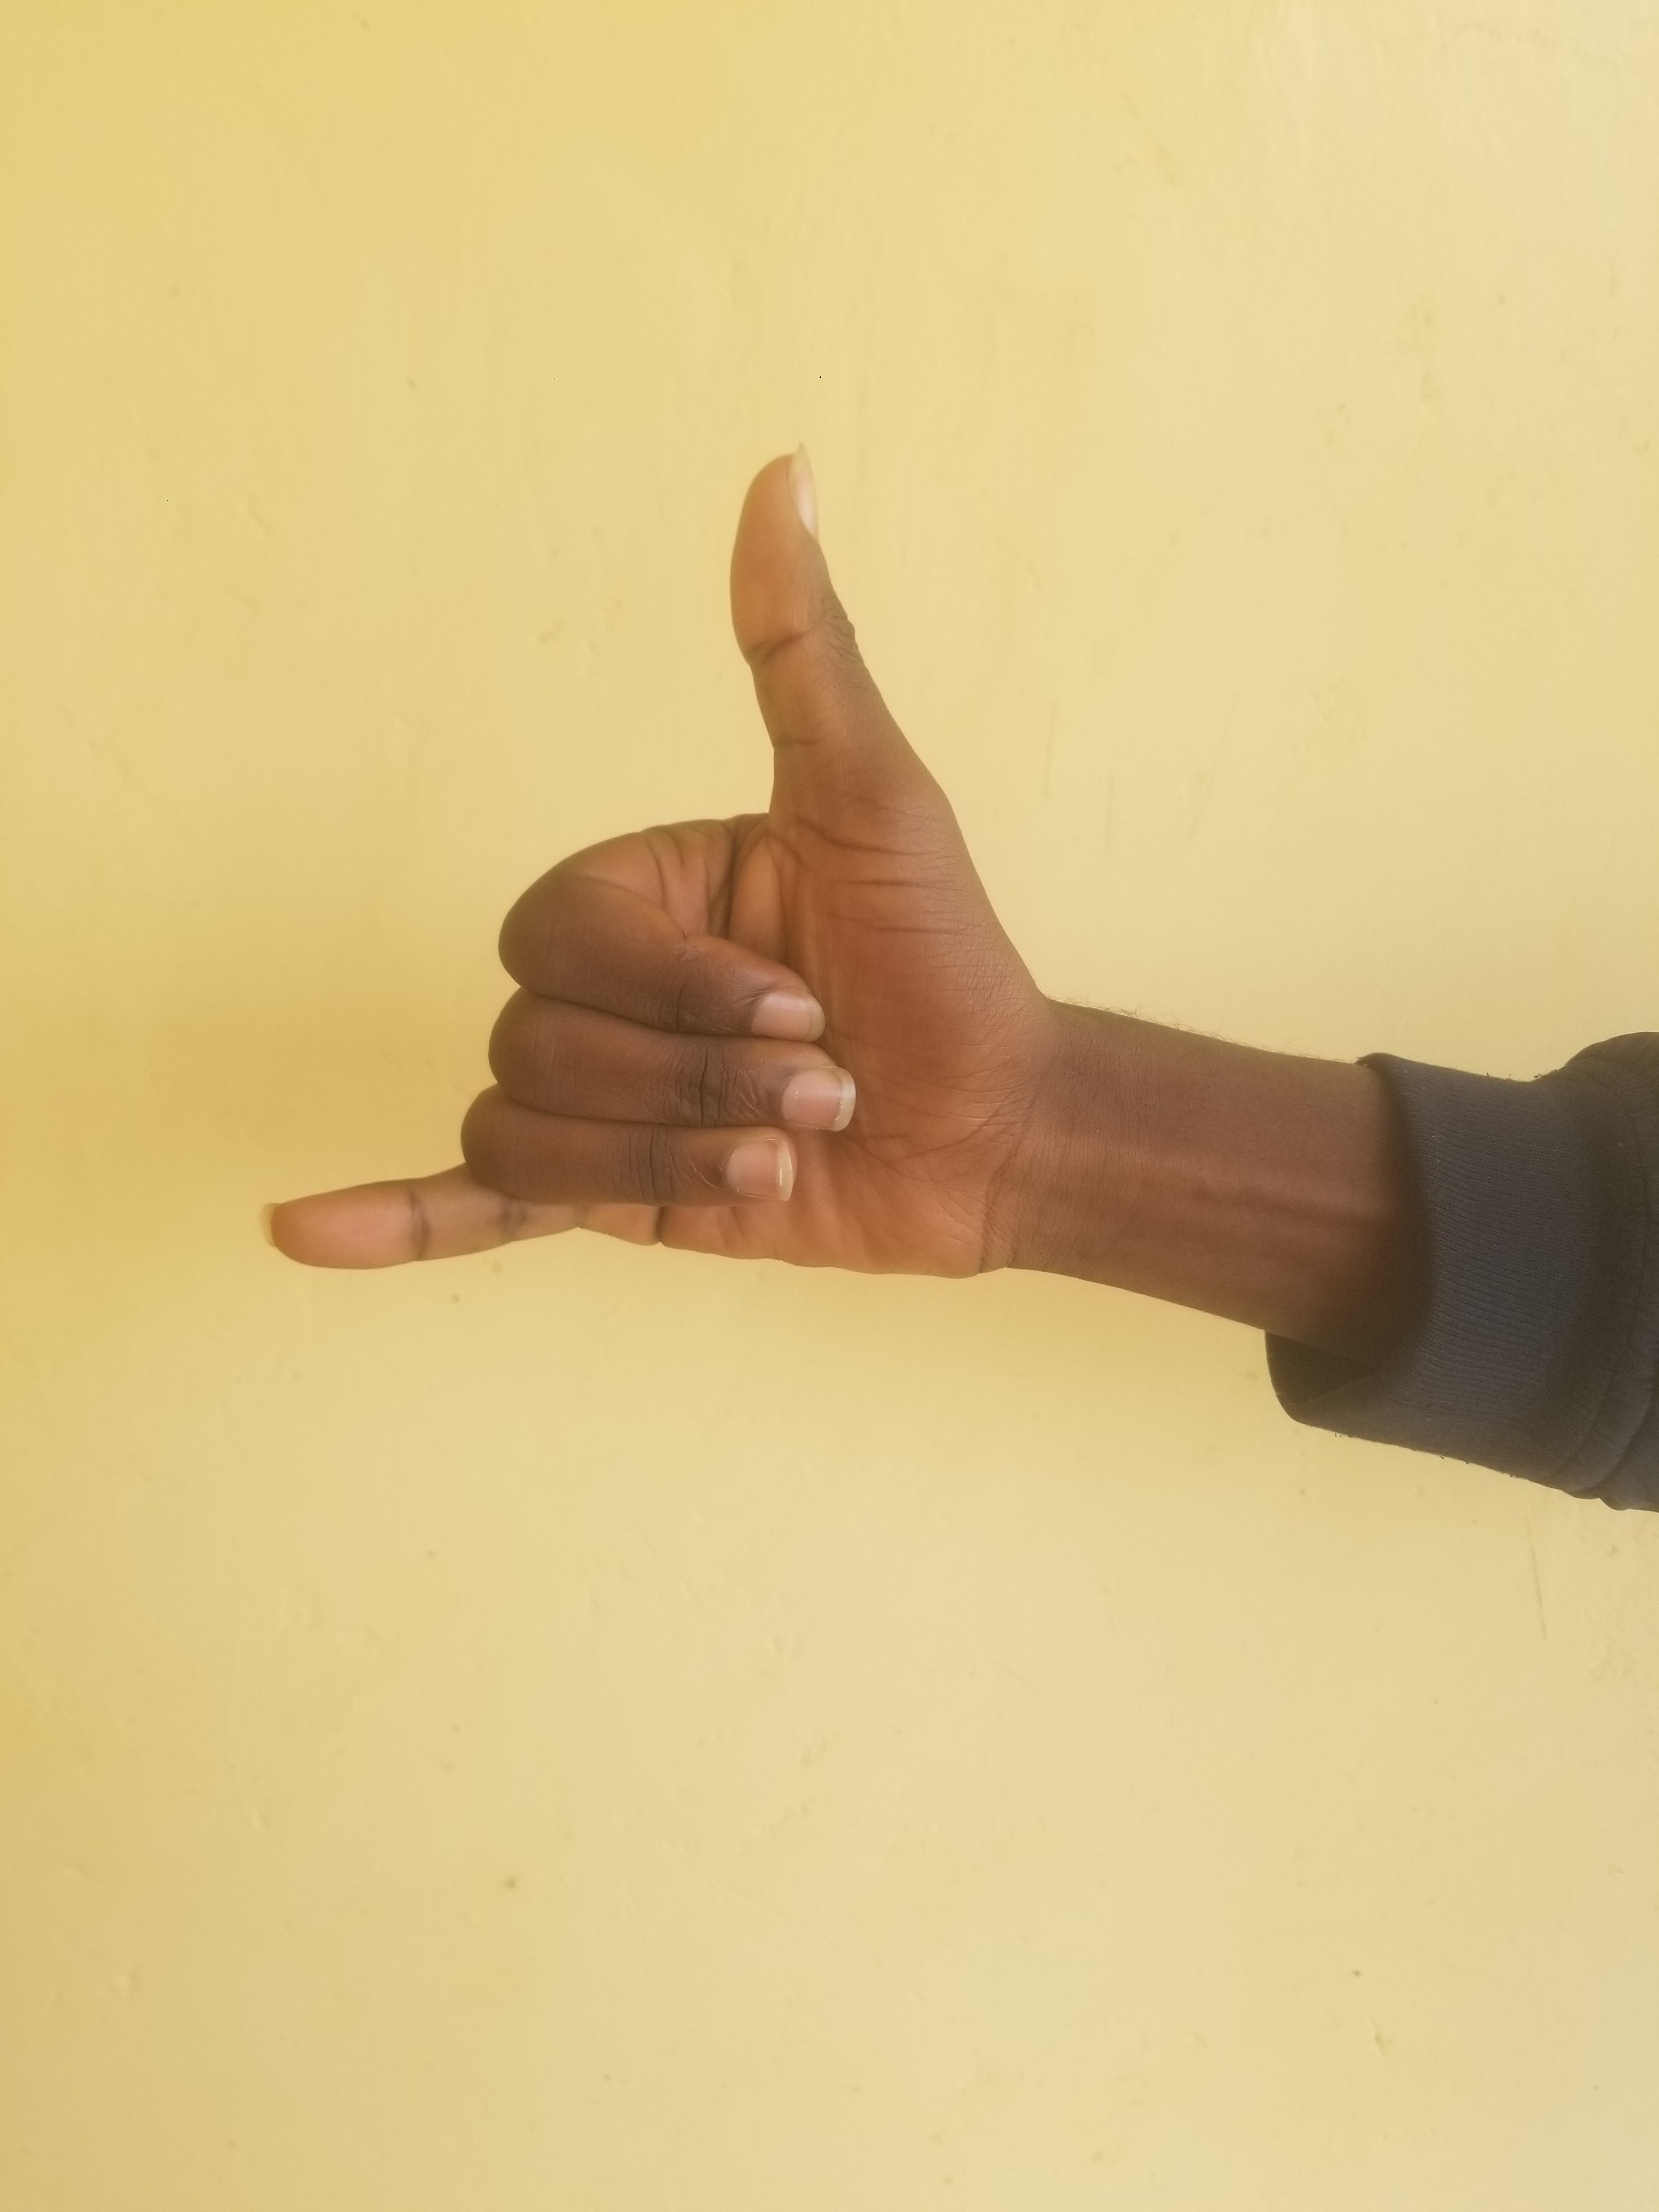call: (30, 164, 1441, 1688)
